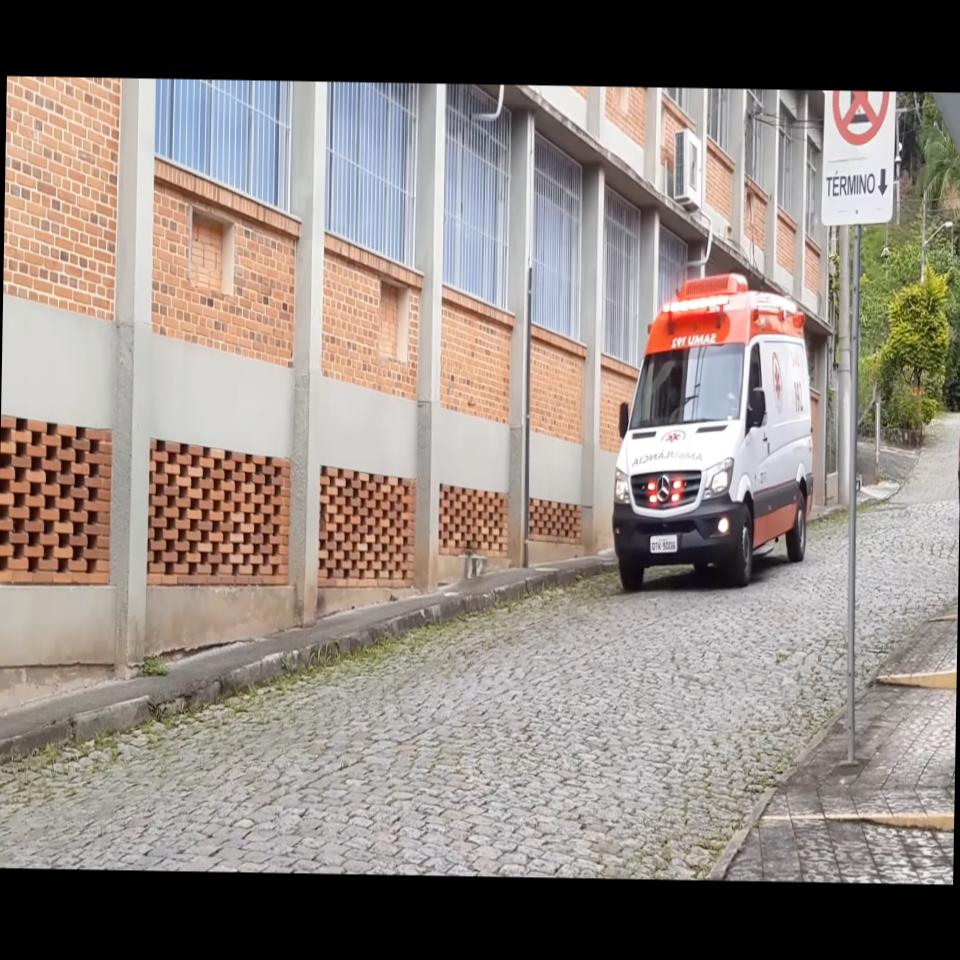bombeiro: (610, 268, 820, 598)
